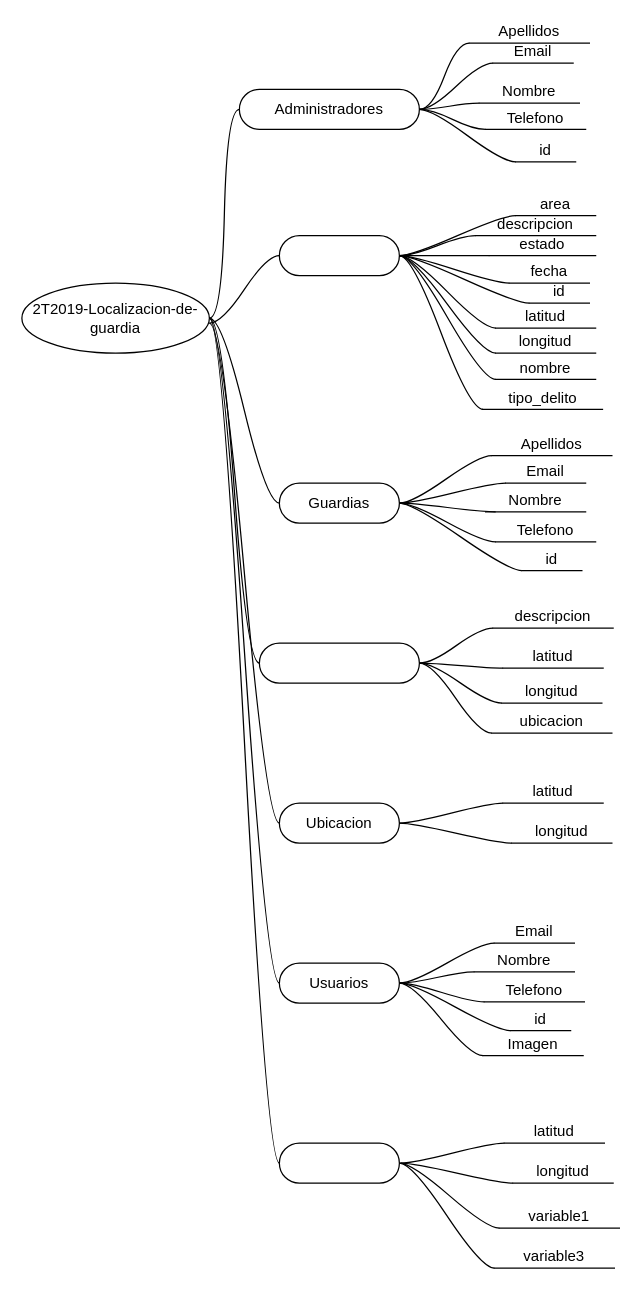
Some shapes in this 641 by 1290 pixel diagram are drawn without their labels. The box of each missing label's shape, as (x1, y1, x2, y2) in pixels:
Denuncia: (278, 234, 399, 276)
GuardiasEspol: (258, 642, 419, 683)
registro: (278, 1142, 399, 1183)
